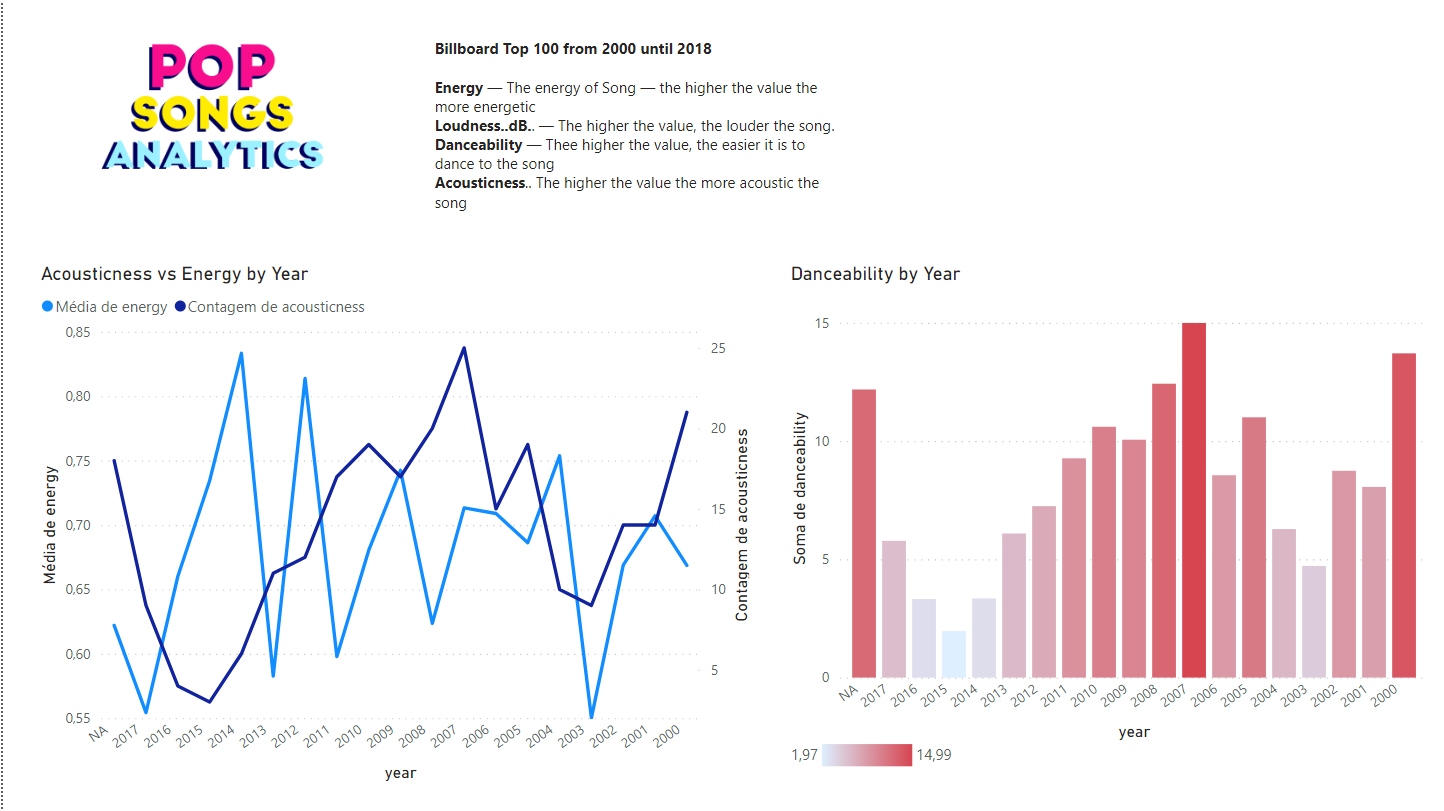

What the dashboard file says about the page in this screenshot:
{"tool":"powerbi","page":{"name":"Página 2","canvas":[1280,720],"ordinal":1},"visuals":[{"type":"lineChart","title":"Acousticness vs Energy by Year","fields":{"Y":["Avg(PopSongs.energy)"],"Category":["PopSongs.year"],"Y2":["CountNonNull(PopSongs.acousticness)"]},"box":[28.4,232.6,639.2,466.1],"z":1},{"type":"textbox","box":[378.4,29.2,375.4,190.6],"z":2},{"type":"clusteredColumnChart","title":"Danceability by Year","fields":{"Y":["Sum(PopSongs.danceability)"],"Category":["PopSongs.year"]},"box":[694.3,232.6,576.2,459],"z":3},{"type":"image","box":[8.9,20.4,349.8,150],"z":4}]}

Visuals, with their boxes in screenshot pixels (x1, y1, x2, y2), scaled from the page's 1280x720 canvas onto the 1444x811 screenshot:
"Acousticness vs Energy by Year" lineChart: <box>32,262,753,787</box>
textbox: <box>427,33,850,248</box>
"Danceability by Year" clusteredColumnChart: <box>783,262,1433,779</box>
image: <box>10,23,405,192</box>
